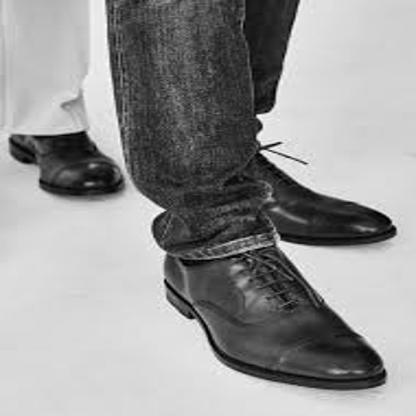not trash: (154, 215, 397, 399), (242, 145, 398, 254), (4, 116, 134, 211)
